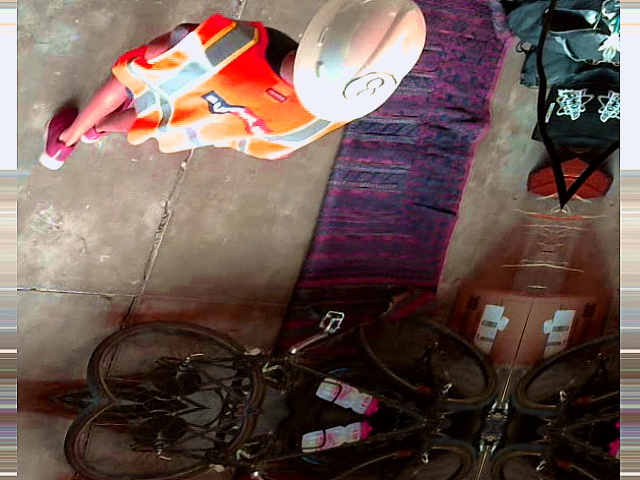eight: (336, 68, 403, 108)
